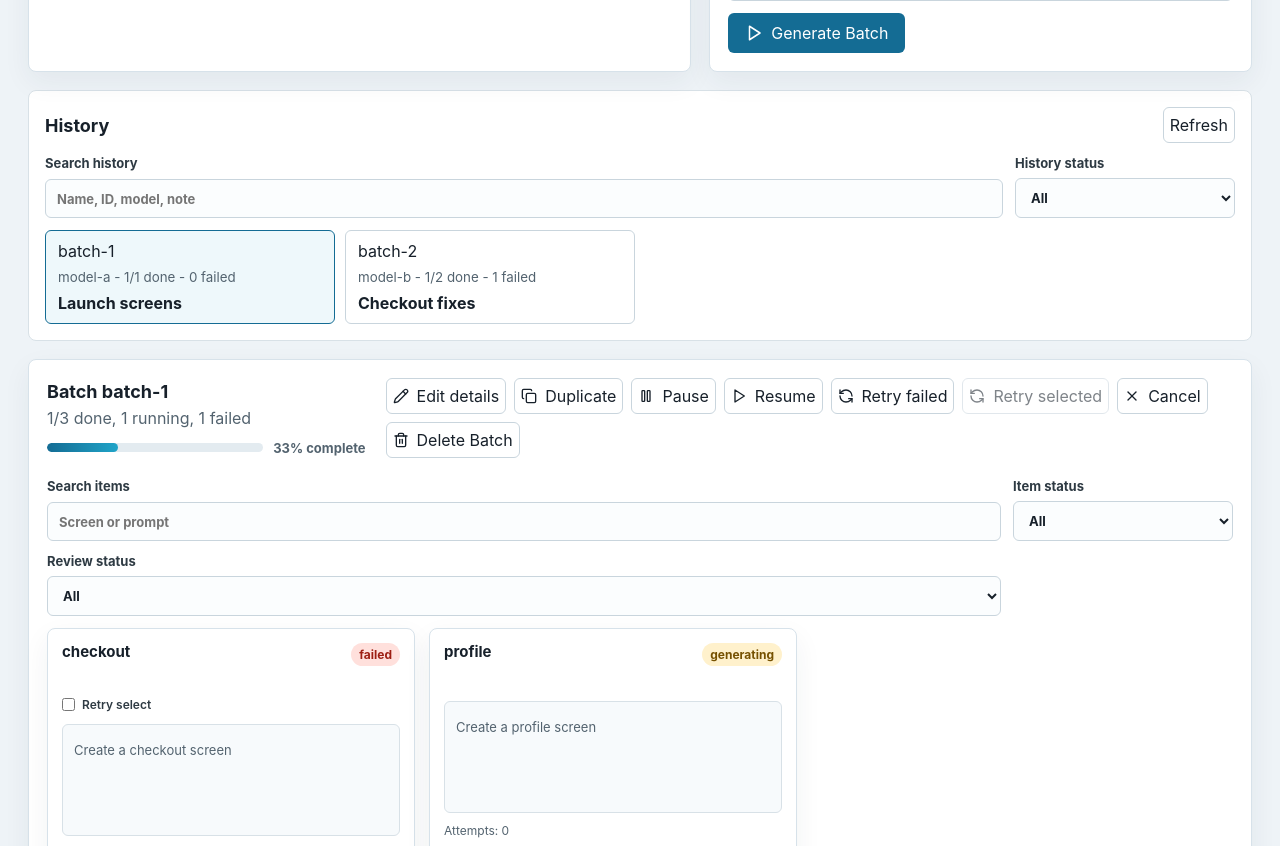
Test: App › updates the selected batch name and note
(page scrolled)
Expected: the heading "Batch batch-1" is shown, left=47, top=380, right=168, bottom=402
Click the button "Edit details".
click(446, 396)  # box left=386, top=378, right=506, bottom=414
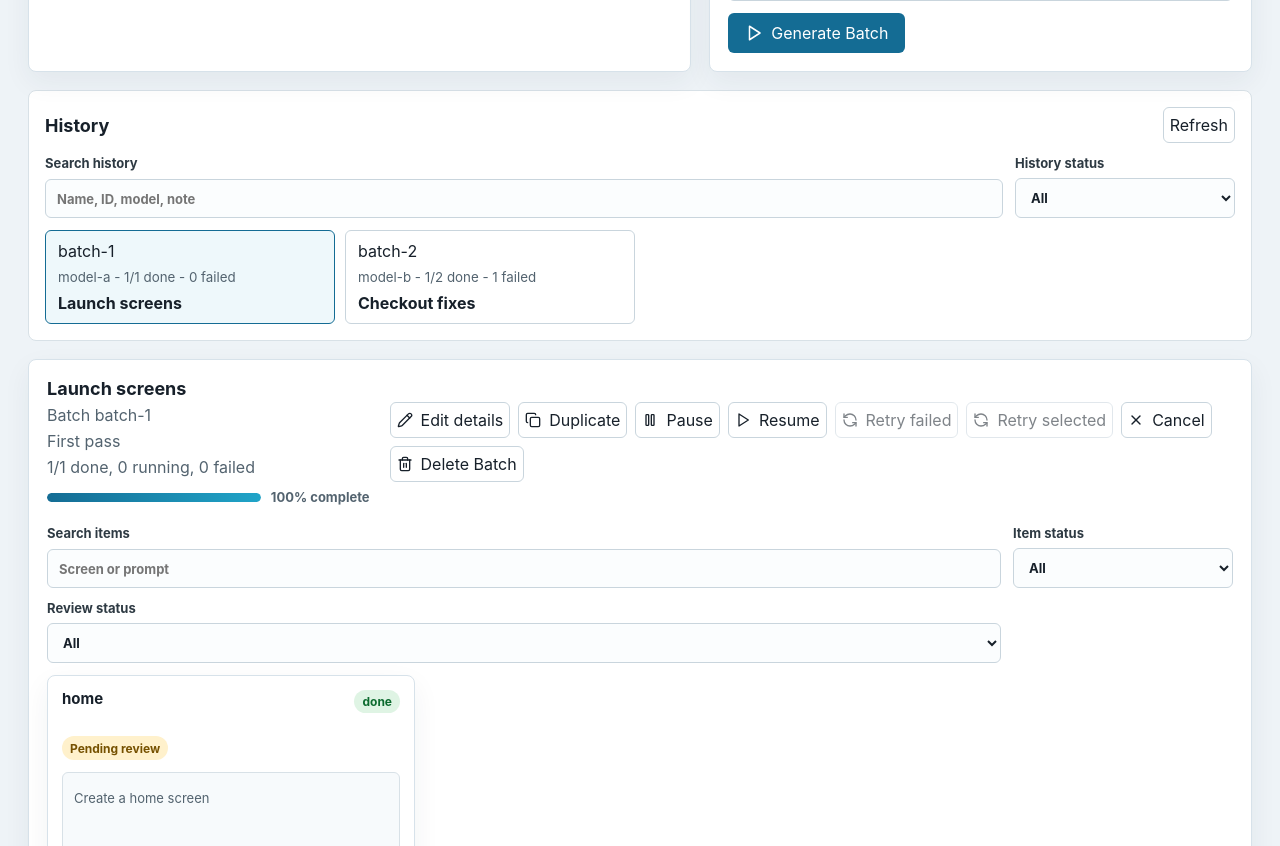
Expected: the text "Launch screens" is shown, left=58, top=293, right=182, bottom=313
Result: the text "First pass" is shown at left=47, top=431, right=120, bottom=451
